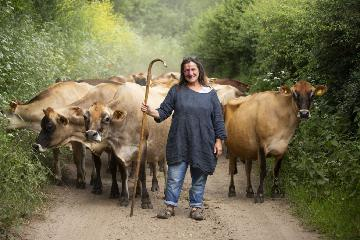cow: (239, 73, 321, 186), (33, 108, 81, 161), (84, 100, 125, 153), (2, 95, 35, 134)
